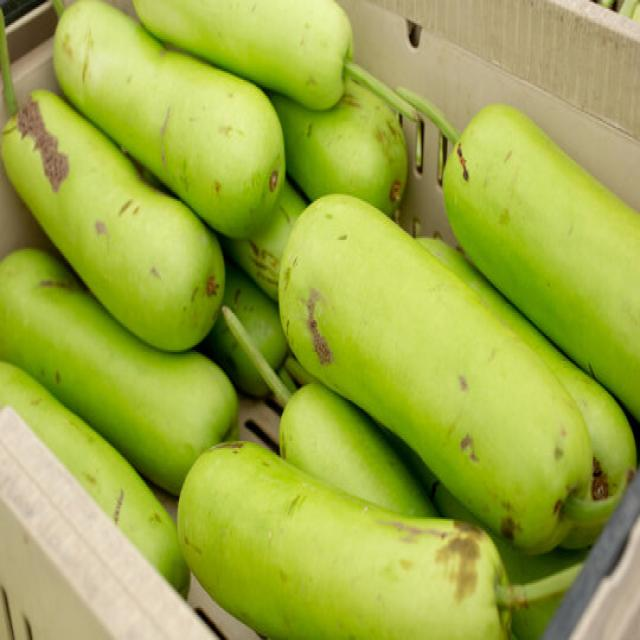Bottle Gourd: (276, 190, 594, 555), (0, 7, 226, 352), (177, 438, 513, 638), (0, 245, 238, 496), (49, 0, 286, 238), (0, 357, 190, 599), (447, 100, 639, 336), (130, 0, 354, 110)
Spinach: (0, 0, 639, 638)
